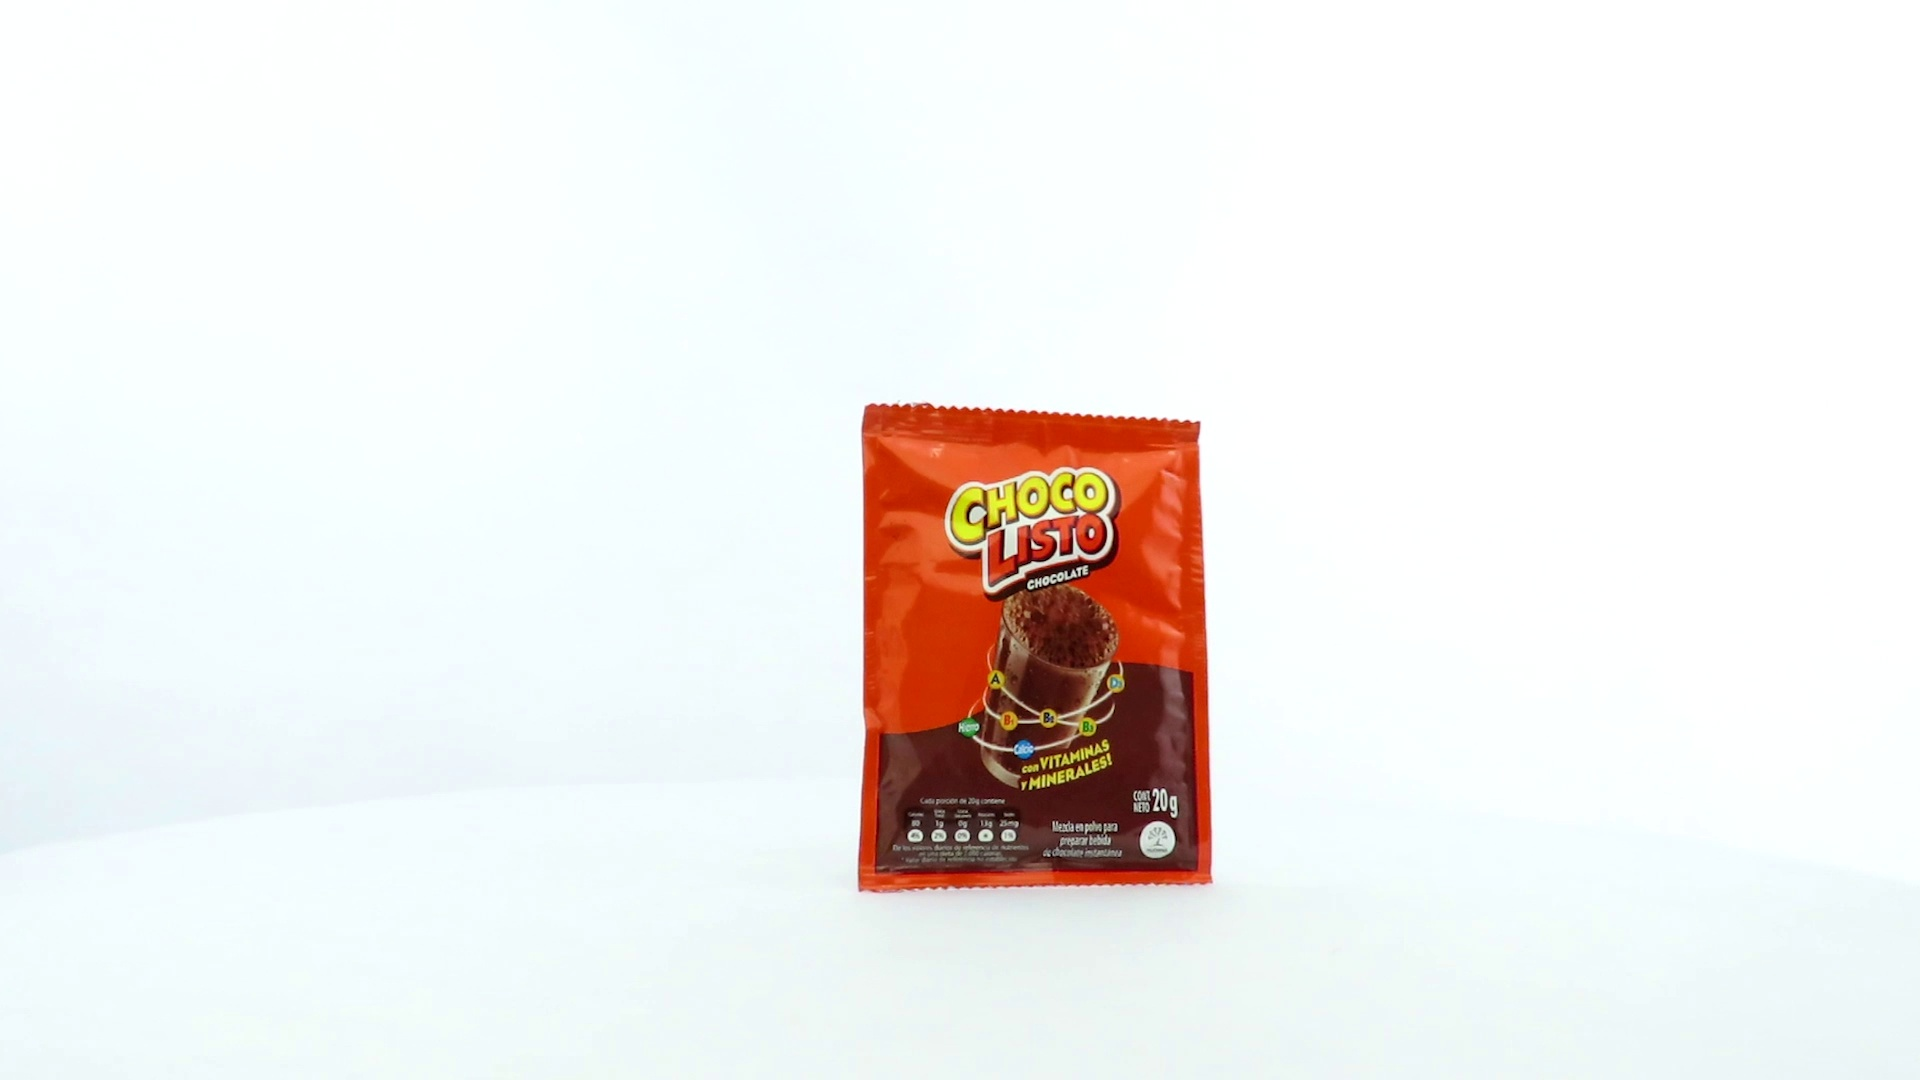COL0170103SOB02000: (852, 397, 1218, 899)
